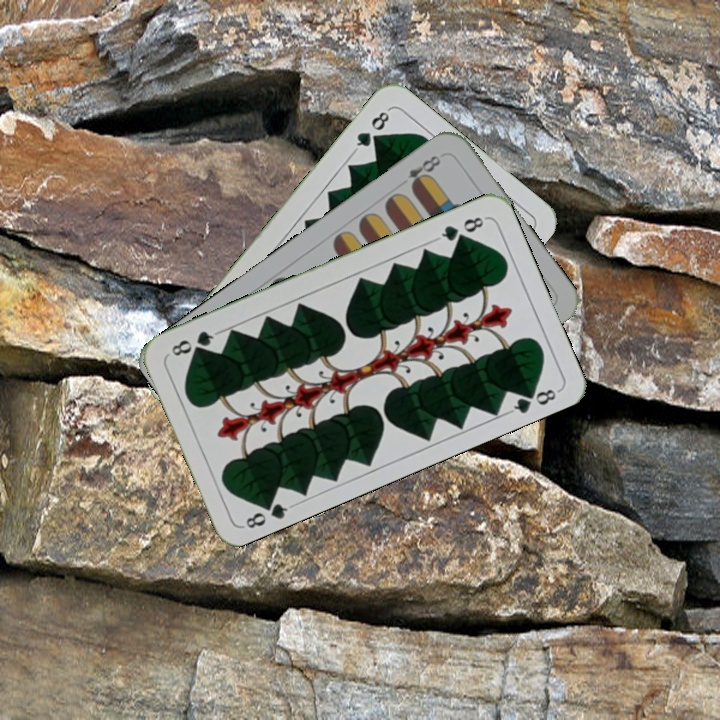E8: (404, 151, 444, 192)
G8: (350, 105, 393, 155), (240, 494, 296, 532), (433, 212, 489, 244)
